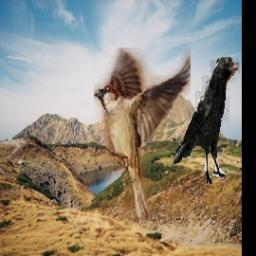Crow: (172, 57, 241, 184)
Sparrow: (94, 48, 191, 219)
